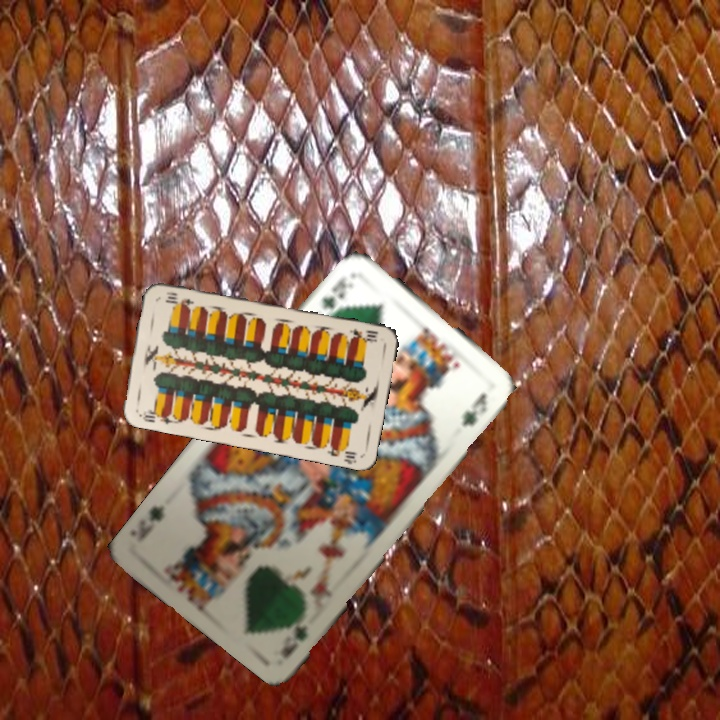E10: (135, 405, 175, 427), (345, 324, 381, 345)
GK: (318, 272, 355, 312), (289, 607, 310, 644)
